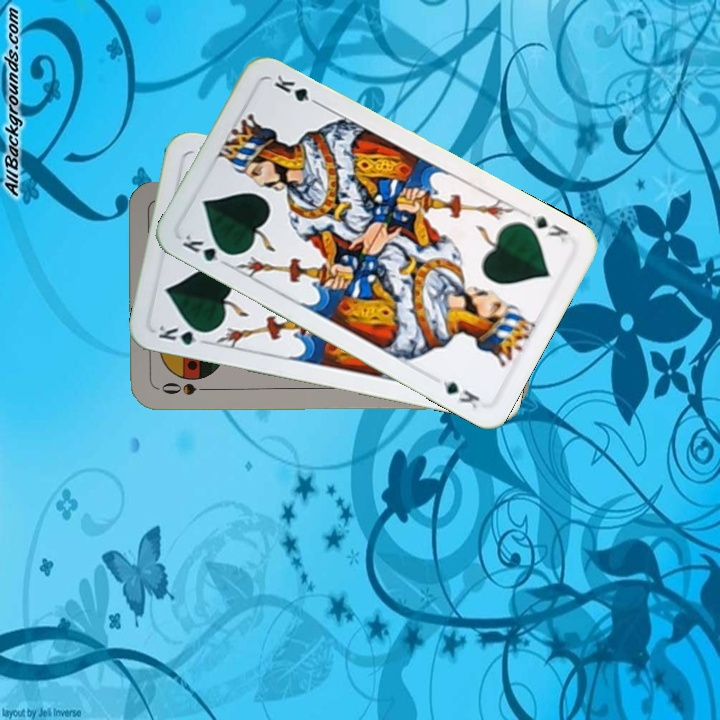GK: (178, 229, 235, 269), (517, 211, 572, 246), (154, 320, 212, 348)
SO: (158, 379, 213, 398)
